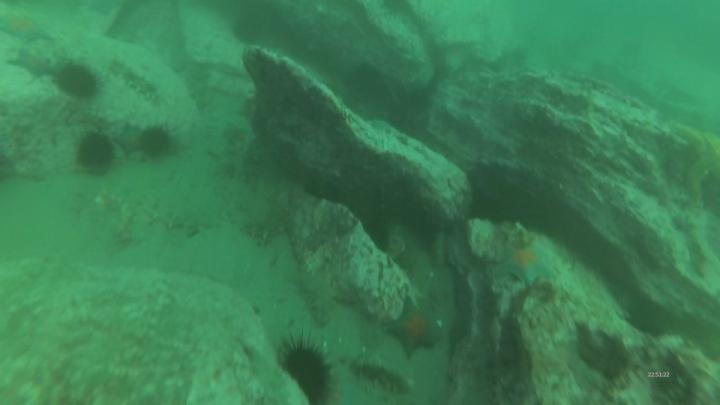echinus: (272, 335, 337, 405), (51, 61, 105, 101), (345, 63, 393, 107), (74, 129, 119, 175), (137, 122, 174, 163), (231, 11, 269, 47)
holothurian: (351, 353, 422, 401), (132, 189, 197, 235), (110, 55, 163, 106), (301, 269, 339, 328)
starfish: (387, 292, 444, 362), (498, 237, 563, 291), (6, 45, 60, 85), (1, 13, 57, 45)
